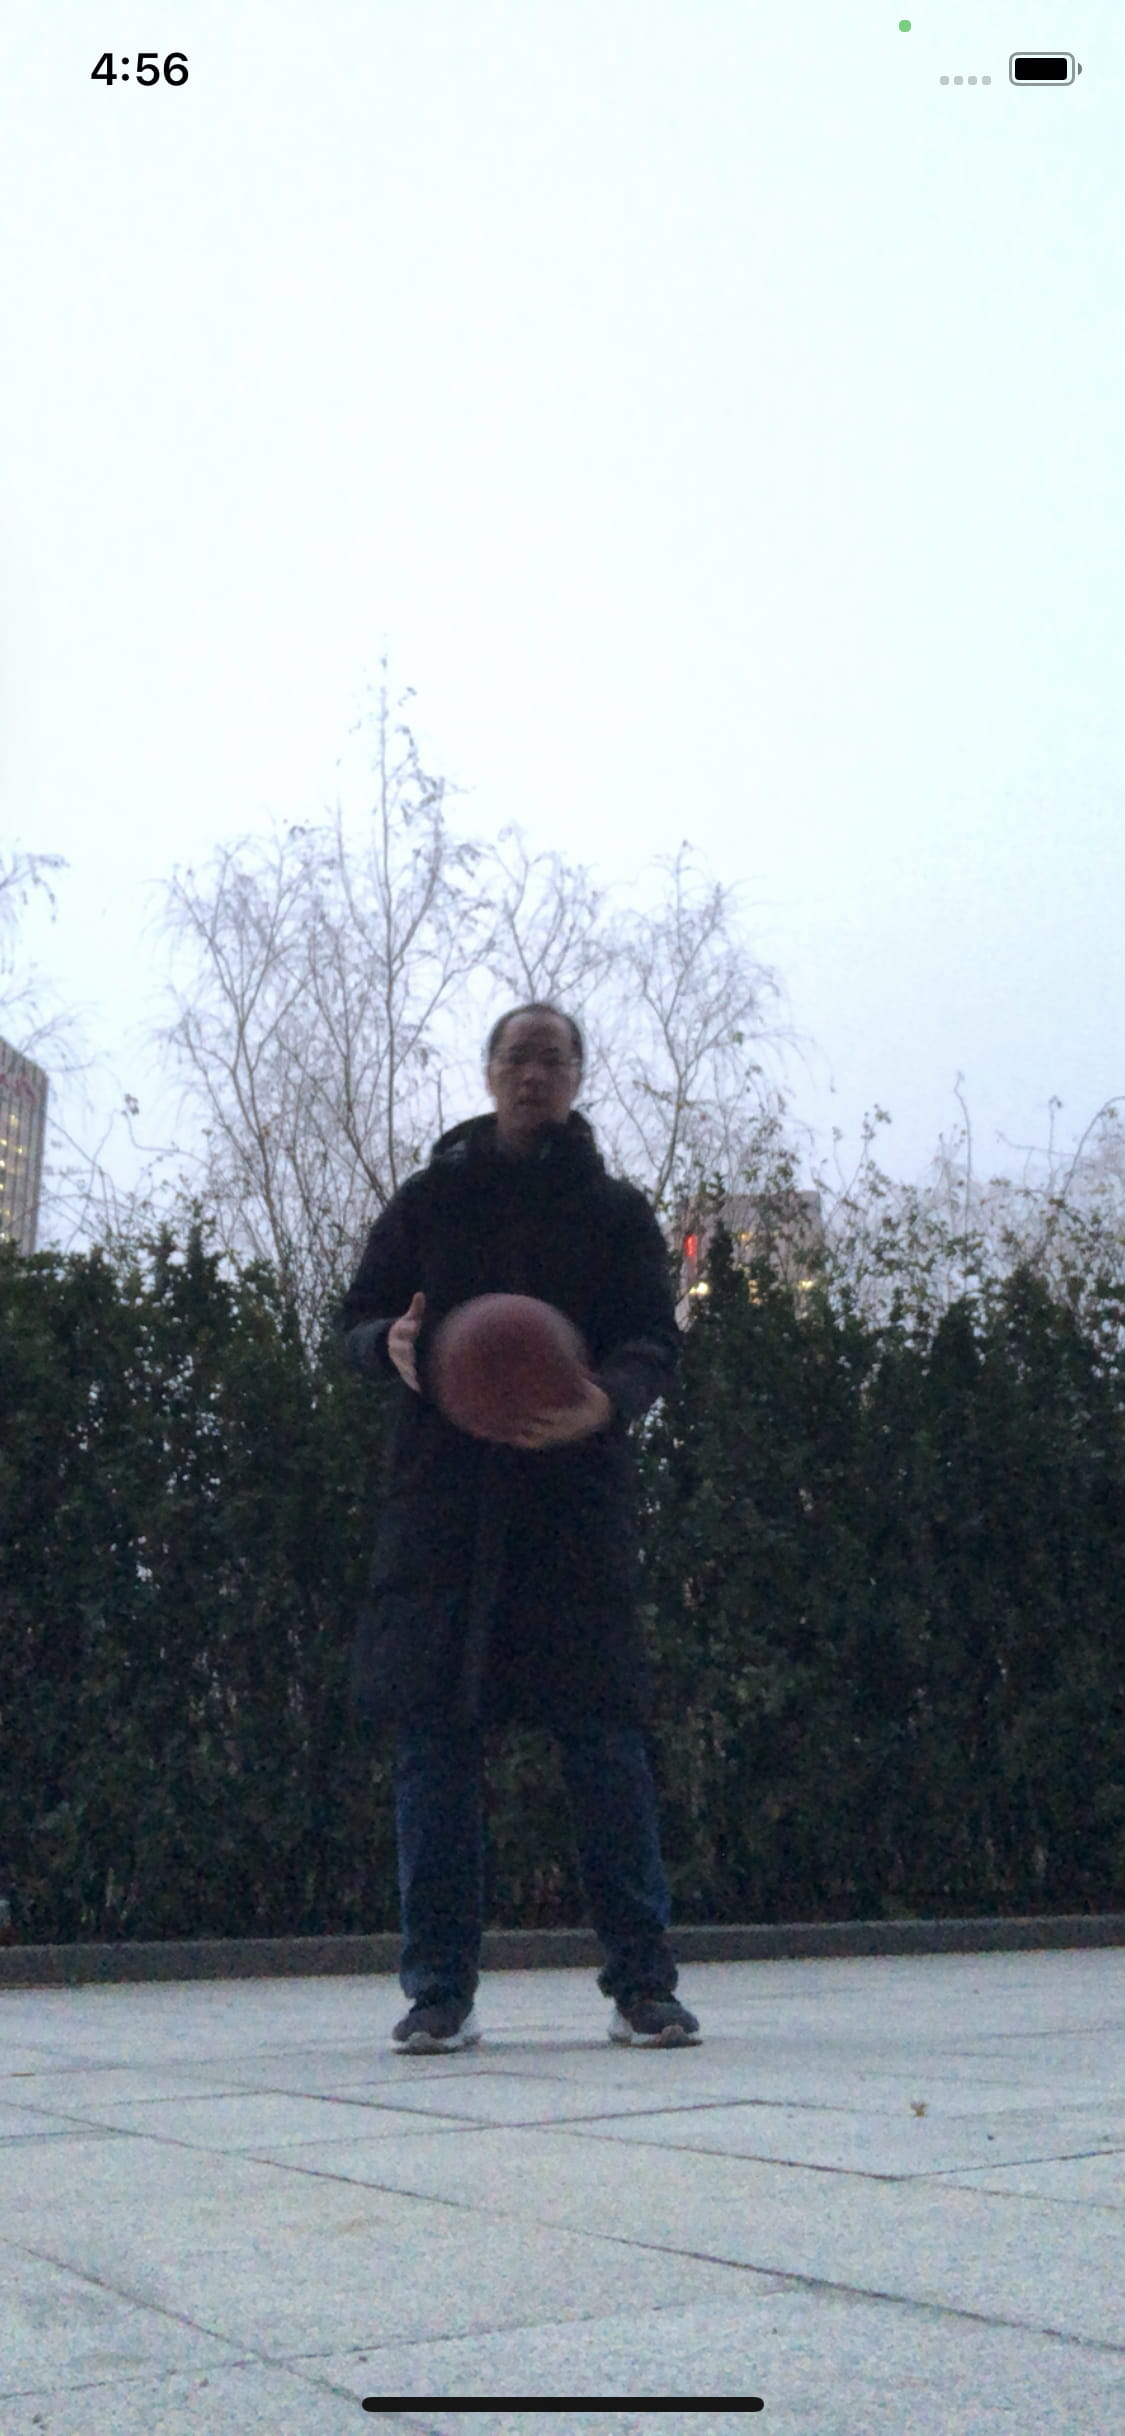ball: (435, 1296, 597, 1432)
